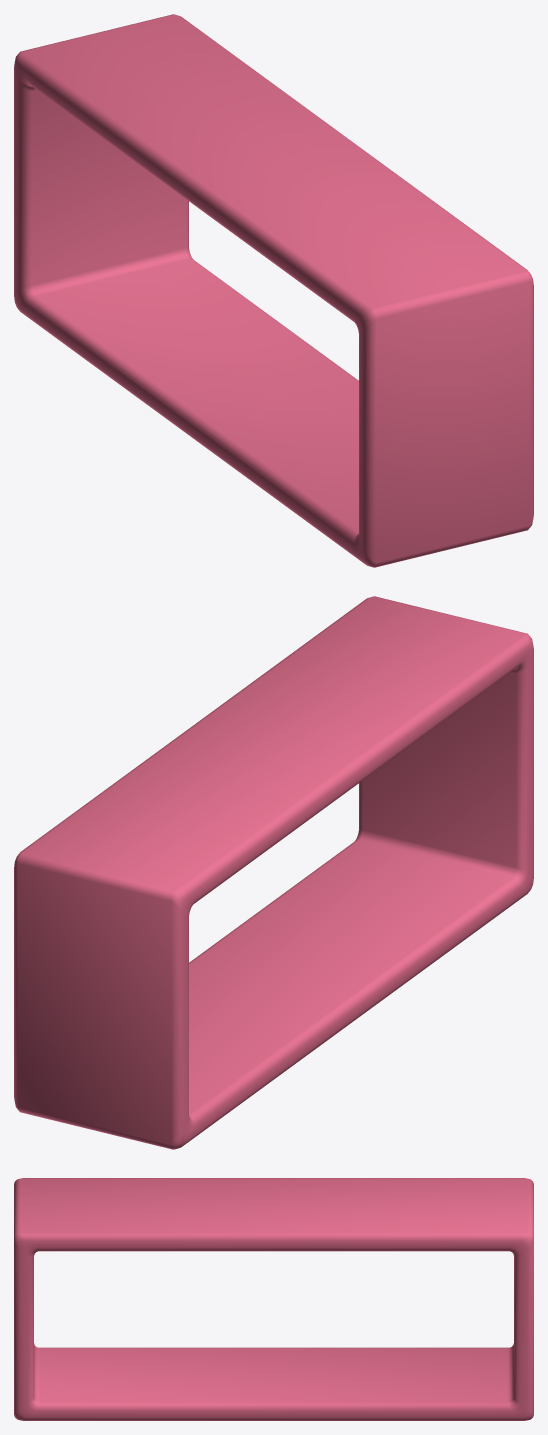
The model's file is Shelf1.fbx.
3 views of the same model, one above another, from view 1: azimuth 30°, elevation 25°; view 2: azimuth 150°, elevation 25°; view 3: azimuth 270°, elevation 25° (orthographic). The views are drawn at different scales.
Visible parts, largest first — view 1: Shelf1; view 2: Shelf1; view 3: Shelf1.
Boxes of the visible parts, x1,y1,x2,y2 form: Shelf1: [14, 14, 533, 567]; Shelf1: [14, 596, 533, 1149]; Shelf1: [14, 1178, 533, 1420].
Bounding box in the file's own units: 0.9195 × 3.4 × 1.36.
